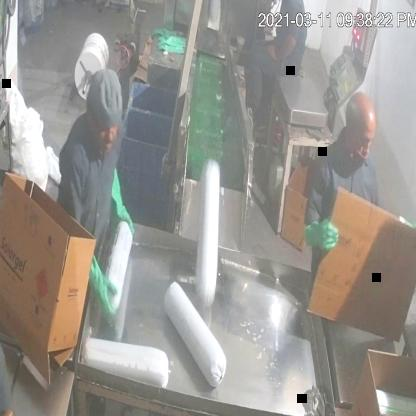glove: (86, 244, 122, 330), (306, 212, 337, 260)
no_glove: (267, 33, 300, 71)
